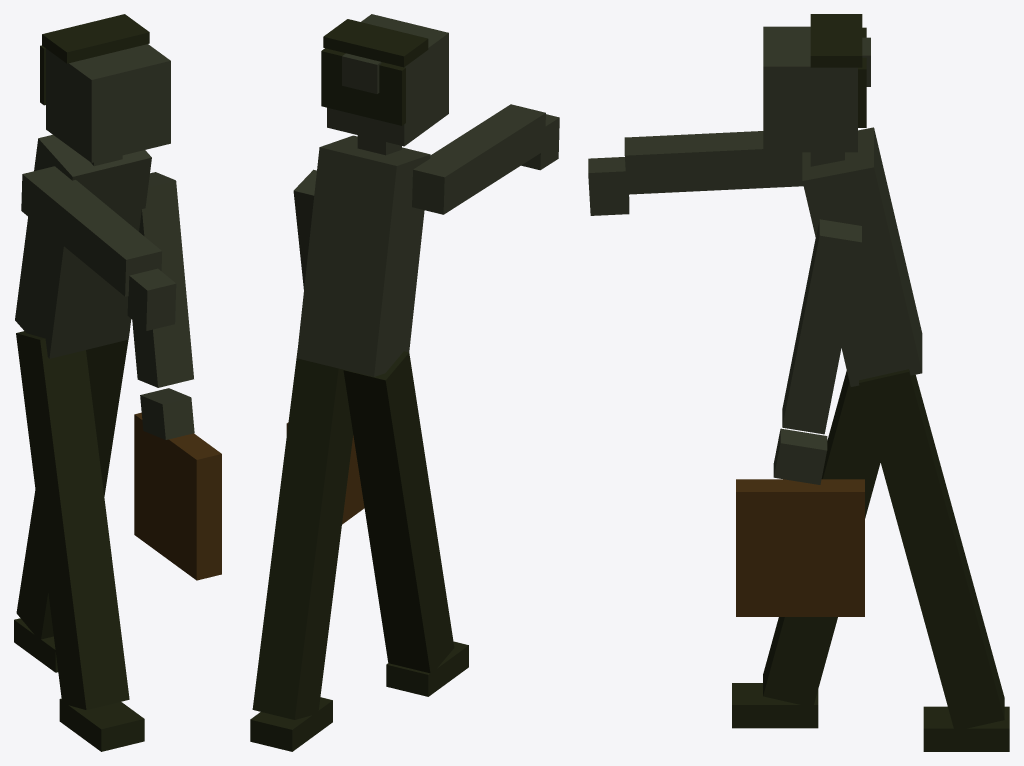
Rendered from SM_ZombiFino_v11_Bolsa_LOD1.fbx.
3 renders of one model, left to right at view 1: azimuth 30°, elevation 25°; view 2: azimuth 150°, elevation 25°; view 3: azimuth 270°, elevation 25°, orthographic. The views are drawn at different scales.
Parts seen in each view (by area): view 1: SM_zombi_fino_v11_LOD1; view 2: SM_zombi_fino_v11_LOD1; view 3: SM_zombi_fino_v11_LOD1.
Boxes of the visible parts, box(x1,y1,x2,y2) form: SM_zombi_fino_v11_LOD1: box(14, 14, 221, 751); SM_zombi_fino_v11_LOD1: box(250, 14, 559, 751); SM_zombi_fino_v11_LOD1: box(588, 14, 1009, 751).
Bounding box in the file's own units: 0.415 × 1.78 × 0.9796.
